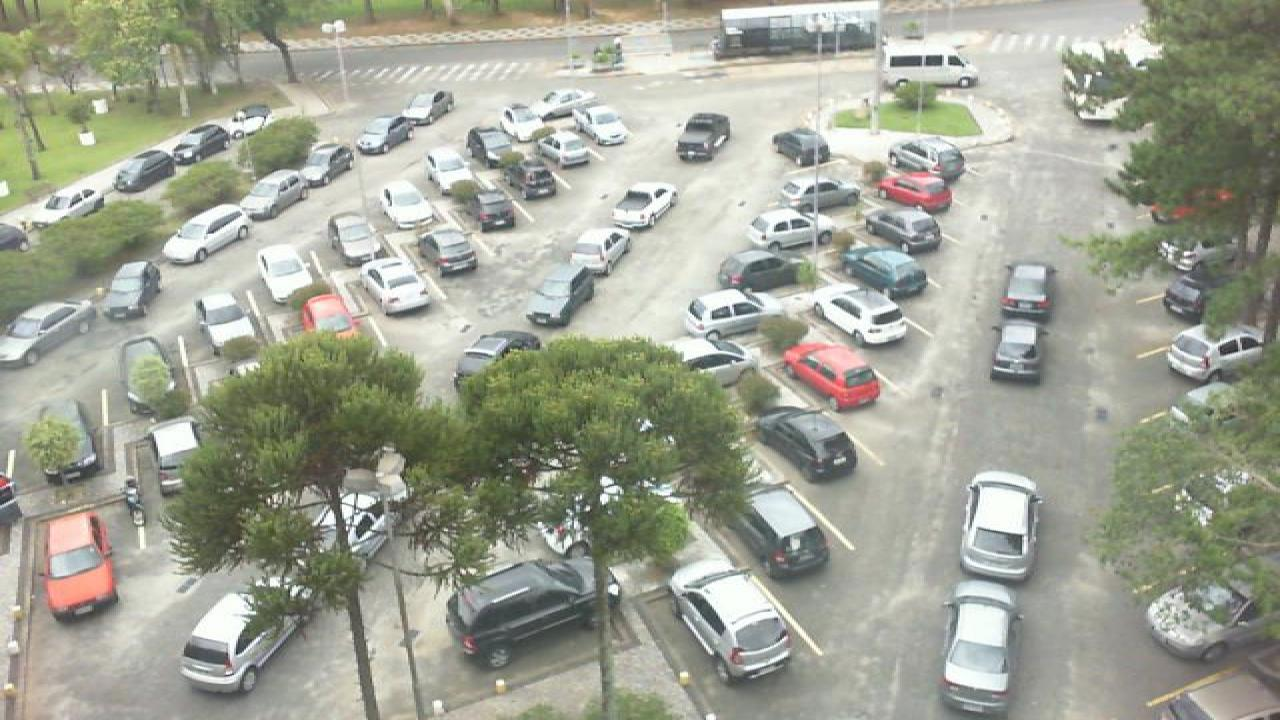Car: (440, 552, 602, 670), (668, 557, 796, 686), (178, 576, 312, 696), (932, 577, 1024, 718), (1136, 570, 1266, 662), (30, 510, 122, 623), (954, 469, 1044, 584), (736, 480, 834, 580), (754, 406, 860, 484), (778, 340, 882, 414), (18, 396, 98, 487), (804, 284, 912, 348), (1160, 322, 1268, 386), (450, 328, 548, 391), (158, 202, 254, 266), (678, 284, 772, 348), (874, 38, 982, 90), (144, 415, 206, 501), (112, 332, 176, 414), (836, 245, 930, 299), (0, 300, 94, 354), (524, 266, 598, 328), (668, 338, 754, 388), (886, 136, 970, 187), (98, 260, 166, 323), (716, 246, 808, 292), (748, 207, 842, 252), (858, 207, 946, 254), (994, 258, 1058, 322), (364, 255, 432, 315), (256, 243, 318, 308), (604, 179, 680, 232), (1160, 256, 1218, 324), (876, 170, 958, 215), (238, 170, 312, 219), (564, 224, 632, 277), (990, 320, 1046, 382), (296, 290, 360, 344), (674, 110, 734, 163), (416, 227, 478, 278), (776, 174, 862, 210), (108, 150, 178, 194), (164, 120, 234, 164), (328, 209, 380, 266), (770, 124, 836, 168), (380, 176, 432, 228), (300, 140, 360, 184), (466, 186, 518, 235), (570, 106, 632, 146), (356, 116, 416, 157), (438, 144, 492, 188), (216, 102, 278, 138), (466, 122, 520, 163), (538, 131, 592, 172), (500, 101, 552, 142), (402, 88, 458, 126), (512, 156, 558, 200), (528, 86, 598, 112)
